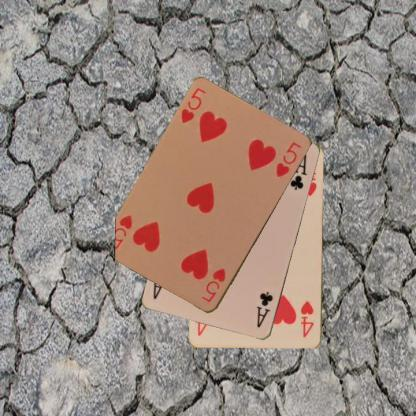4h: (298, 299, 316, 339)
5h: (178, 86, 207, 126), (199, 266, 227, 304)
Ac: (254, 289, 274, 329)
